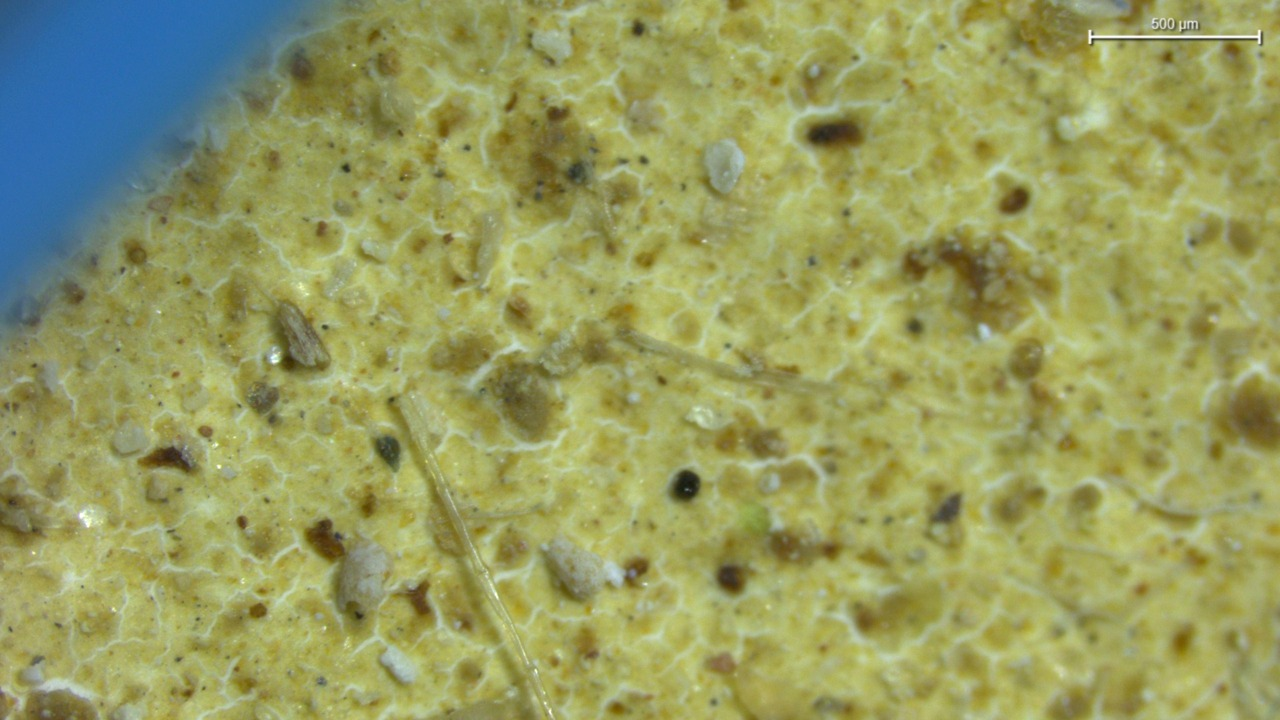microplastic_fragment: (542, 535, 634, 600), (337, 536, 390, 618), (704, 139, 745, 193), (379, 645, 418, 685)
